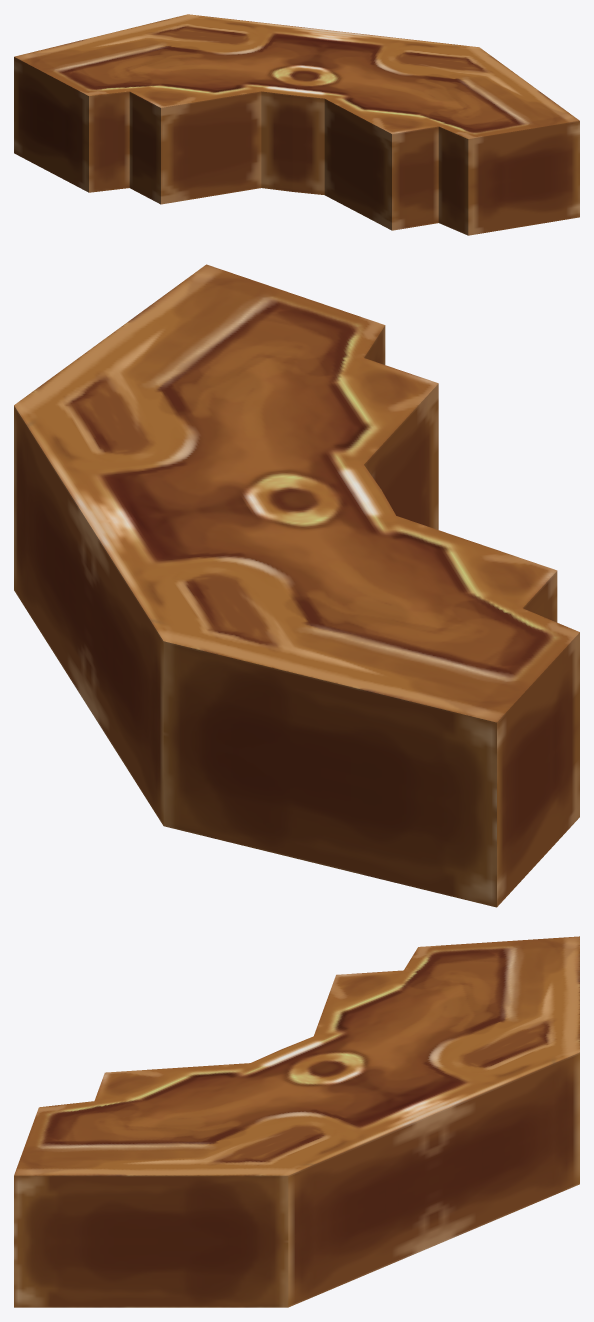
File: diagonalBlock_02.fbx
The picture shows the model from 3 angles, top to bottom: view 1: azimuth 30°, elevation 25°; view 2: azimuth 150°, elevation 25°; view 3: azimuth 270°, elevation 25°; orthographic projection. The views are drawn at different scales.
Visible parts, largest first — view 1: diagonal_02; view 2: diagonal_02; view 3: diagonal_02.
Part boxes in pixels (left/top/right/bottom): diagonal_02: left=14, top=14, right=579, bottom=235; diagonal_02: left=14, top=264, right=579, bottom=907; diagonal_02: left=14, top=936, right=579, bottom=1307.
Size of what is drawn, in the model's own units: 3.88 by 0.9989 by 3.88.
1 material, 1 textured.
